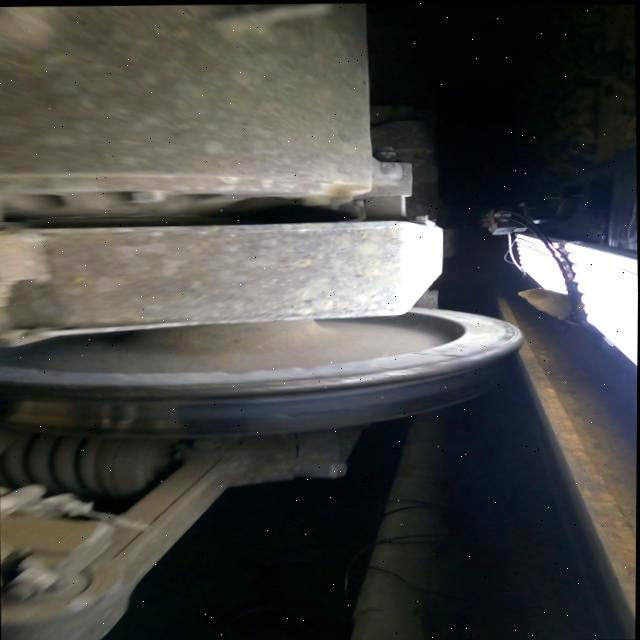Cracks-Scratches: (328, 357, 458, 383), (477, 314, 518, 340), (468, 340, 503, 358), (409, 350, 465, 356)
Discoloration: (387, 366, 488, 410), (180, 398, 248, 433)
Shelling: (98, 402, 179, 428), (4, 400, 74, 425)
Wheel: (0, 306, 523, 435)
